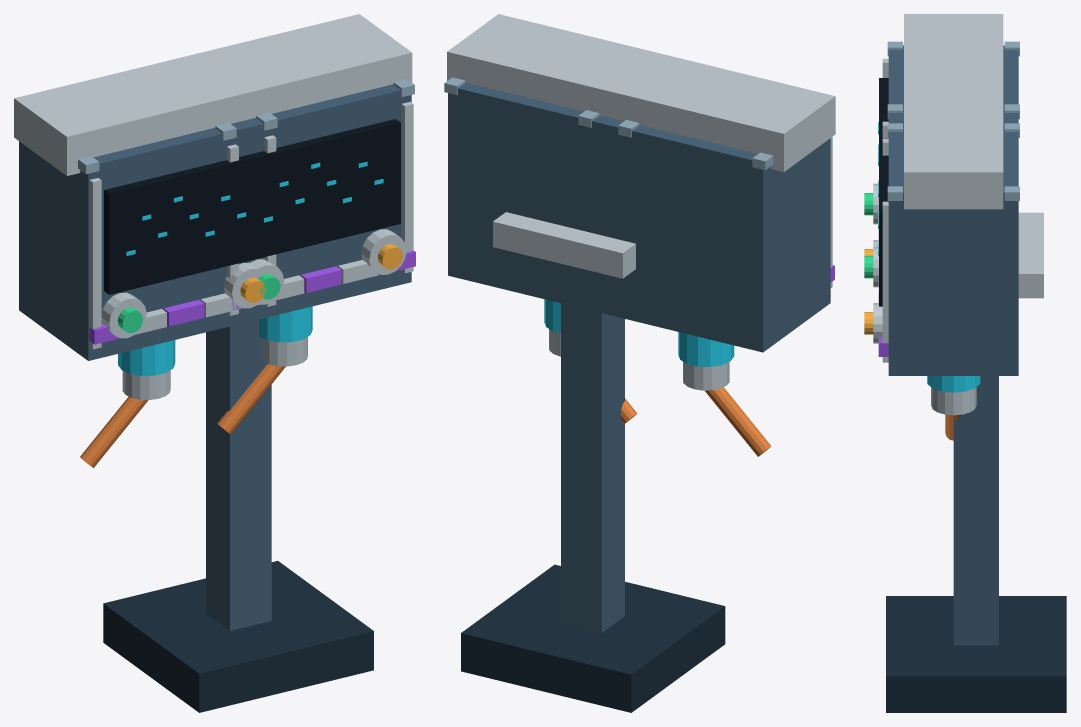
File: 35_L74_WaferHeightLevelingSensor.fbx
The picture shows the model from 3 angles, left to right: view 1: azimuth 30°, elevation 25°; view 2: azimuth 150°, elevation 25°; view 3: azimuth 270°, elevation 25°; orthographic projection. The views are drawn at different scales.
Visible parts, largest first — view 1: WaferHeightLevelingSensor, WaferHeightLevelingSensor_Part_0003, WaferHeightLevelingSensor_Part_0010, WaferHeightLevelingSensor_Part_0047, WaferHeightLevelingSensor_Part_0040, WaferHeightLevelingSensor_Part_0008, WaferHeightLevelingSensor_Part_0046, WaferHeightLevelingSensor_Part_0039, WaferHeightLevelingSensor_Part_0038, WaferHeightLevelingSensor_Part_0076, WaferHeightLevelingSensor_Part_0075, WaferHeightLevelingSensor_Part_0037 (+6 smaller); view 2: WaferHeightLevelingSensor, WaferHeightLevelingSensor_Part_0003, WaferHeightLevelingSensor_Part_0040, WaferHeightLevelingSensor_Part_0039, WaferHeightLevelingSensor_Part_0038, WaferHeightLevelingSensor_Part_0037; view 3: WaferHeightLevelingSensor, WaferHeightLevelingSensor_Part_0040, WaferHeightLevelingSensor_Part_0003, WaferHeightLevelingSensor_Part_0074, WaferHeightLevelingSensor_Part_0046, WaferHeightLevelingSensor_Part_0047, WaferHeightLevelingSensor_Part_0076, WaferHeightLevelingSensor_Part_0010, WaferHeightLevelingSensor_Part_0059.
Part boxes in pixels (<box>): WaferHeightLevelingSensor: <box>14,14,412,712</box>; WaferHeightLevelingSensor_Part_0003: <box>19,118,273,360</box>; WaferHeightLevelingSensor_Part_0010: <box>104,152,263,294</box>; WaferHeightLevelingSensor_Part_0047: <box>246,119,400,260</box>; WaferHeightLevelingSensor_Part_0040: <box>225,84,411,327</box>; WaferHeightLevelingSensor_Part_0008: <box>89,178,101,349</box>; WaferHeightLevelingSensor_Part_0046: <box>401,102,413,273</box>; WaferHeightLevelingSensor_Part_0039: <box>118,340,175,375</box>; WaferHeightLevelingSensor_Part_0038: <box>80,396,148,467</box>; WaferHeightLevelingSensor_Part_0076: <box>259,306,312,342</box>; WaferHeightLevelingSensor_Part_0075: <box>217,364,285,434</box>; WaferHeightLevelingSensor_Part_0037: <box>122,370,170,399</box>; WaferHeightLevelingSensor: <box>447,14,835,712</box>; WaferHeightLevelingSensor_Part_0003: <box>582,115,830,352</box>; WaferHeightLevelingSensor_Part_0040: <box>448,82,628,319</box>; WaferHeightLevelingSensor_Part_0039: <box>678,332,734,366</box>; WaferHeightLevelingSensor_Part_0038: <box>705,387,771,456</box>; WaferHeightLevelingSensor_Part_0037: <box>683,362,729,390</box>; WaferHeightLevelingSensor: <box>886,14,1066,712</box>; WaferHeightLevelingSensor_Part_0040: <box>888,108,1018,375</box>; WaferHeightLevelingSensor_Part_0003: <box>888,45,1018,130</box>; WaferHeightLevelingSensor_Part_0074: <box>931,387,976,415</box>; WaferHeightLevelingSensor_Part_0046: <box>882,201,888,362</box>; WaferHeightLevelingSensor_Part_0047: <box>879,149,888,306</box>; WaferHeightLevelingSensor_Part_0076: <box>927,376,980,392</box>; WaferHeightLevelingSensor_Part_0010: <box>879,78,888,148</box>; WaferHeightLevelingSensor_Part_0059: <box>873,303,882,343</box>.
Bounding box in the file's own units: 83 × 138 × 44.8.
